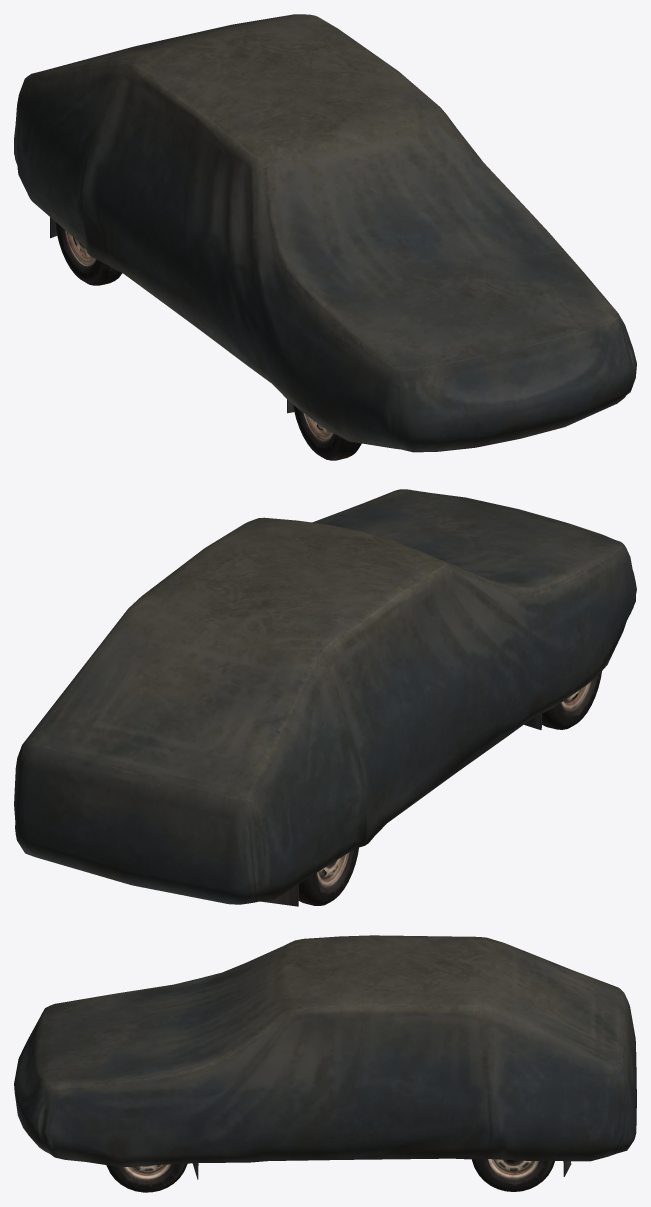
File: covered_car_1k.glb
3 renders of one model, top to bottom at view 1: azimuth 30°, elevation 25°; view 2: azimuth 150°, elevation 25°; view 3: azimuth 270°, elevation 25°, orthographic. The views are drawn at different scales.
Visible parts, largest first — view 1: covered_car, covered_car_wheel_03, covered_car_wheel_02; view 2: covered_car, covered_car_wheel_03, covered_car_wheel_02; view 3: covered_car, covered_car_wheel_04, covered_car_wheel_01.
Boxes of the visible parts, bbox=[...] form: covered_car: bbox=[14, 14, 636, 452]; covered_car_wheel_03: bbox=[55, 222, 122, 285]; covered_car_wheel_02: bbox=[293, 405, 361, 460]; covered_car: bbox=[14, 489, 636, 906]; covered_car_wheel_03: bbox=[298, 847, 358, 905]; covered_car_wheel_02: bbox=[542, 671, 601, 729]; covered_car: bbox=[14, 935, 636, 1179]; covered_car_wheel_04: bbox=[472, 1159, 554, 1191]; covered_car_wheel_01: bbox=[106, 1163, 187, 1192].
Bounding box in the file's own units: 1.79 × 1.41 × 4.38.
1 material, 1 textured.
